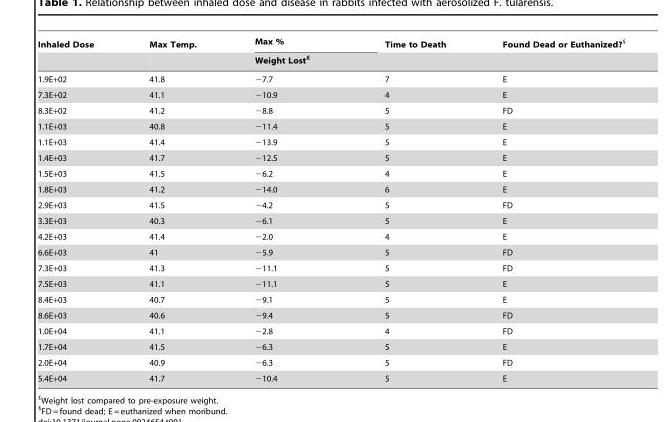table: (37, 36, 624, 383)
table column: (473, 36, 624, 383), (346, 36, 473, 383), (224, 36, 346, 383), (120, 36, 224, 383), (37, 36, 120, 383)
table column header: (37, 36, 624, 68)
table row: (37, 51, 624, 68), (37, 68, 624, 85), (37, 85, 624, 101), (37, 101, 624, 117), (37, 117, 624, 133), (37, 148, 624, 164), (37, 164, 624, 180), (37, 180, 624, 196), (37, 211, 624, 227), (37, 227, 624, 243), (37, 243, 624, 259), (37, 274, 624, 290), (37, 290, 624, 306), (37, 306, 624, 322), (37, 337, 624, 353), (37, 353, 624, 369), (37, 36, 624, 51), (37, 133, 624, 148), (37, 196, 624, 211), (37, 259, 624, 274), (37, 322, 624, 337), (37, 369, 624, 383)
table spanning cell: (473, 36, 624, 68), (346, 36, 473, 68), (224, 36, 346, 68), (120, 36, 224, 68), (37, 36, 120, 68)
